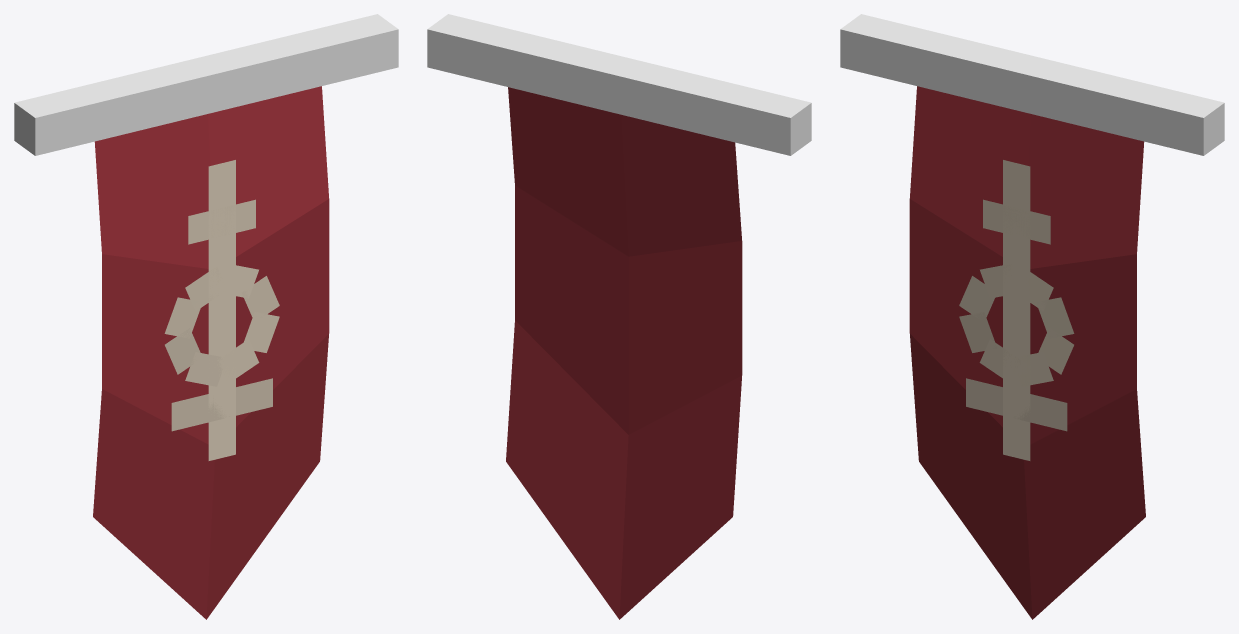
Rendered from Banner_Small.fbx.
3 renders of one model, left to right at view 1: azimuth 30°, elevation 25°; view 2: azimuth 150°, elevation 25°; view 3: azimuth 330°, elevation 25°, orthographic.
Visible parts, largest first — view 1: Banner_Small; view 2: Banner_Small; view 3: Banner_Small.
Part boxes in pixels (x1,y1,x2,y2): Banner_Small: (14, 14, 398, 619); Banner_Small: (427, 14, 811, 619); Banner_Small: (840, 14, 1224, 619).
Bounding box in the file's own units: 0.8 × 1.17 × 0.1.
